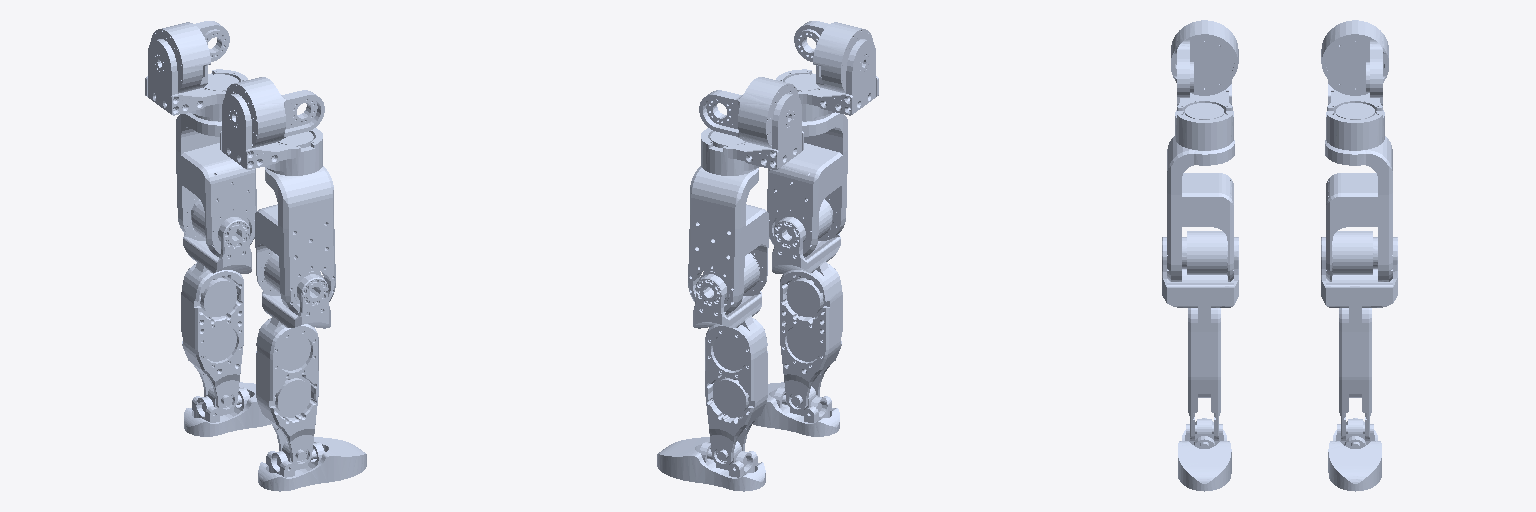
URDF robot description (Wato_Humanoid_V1):
<?xml version="1.0" encoding="utf-8"?>
<!-- This URDF was automatically created by SolidWorks to URDF Exporter! Originally created by Stephen Brawner (brawner@gmail.com) 
     Commit Version: 1.6.0-4-g7f85cfe  Build Version: 1.6.7995.38578
     For more information, please see http://wiki.ros.org/sw_urdf_exporter -->
<robot
  name="Wato_Humanoid_V1">
  <!-- Isaac Lab: Z-up root. CAD base_link is Y-long; fixed joint stands the robot.
       Extra -90 deg yaw on top of the up-axis fix: the X-only rotation above left
       CAD's true forward (Z) mapped onto Isaac's Y axis, and CAD's lateral (X, the
       Hip_F_L/Hip_F_R separation axis) mapped onto Isaac's X, i.e. "forward" was on
       Y and "sideways" was on X, opposite of Isaac Lab's local-+X-forward convention.
       This produced a persistent crab-like gait: lin_vel_x commands were being
       satisfied by strafing along the robot's true lateral axis. This yaw term
       rotates the horizontal plane only (up/down mapping is unchanged) so CAD-forward
       lands on +X and CAD-lateral lands on Y (left = +Y). -->
  <link name="base">
    <inertial>
      <origin xyz="0 0 0" rpy="0 0 0" />
      <mass value="0.001" />
      <inertia ixx="1e-6" ixy="0" ixz="0" iyy="1e-6" iyz="0" izz="1e-6" />
    </inertial>
  </link>
  <joint name="base_to_base_link" type="fixed">
    <origin xyz="0 0 0" rpy="-1.5707963267948966 0 -1.5707963267948966" />
    <parent link="base" />
    <child link="base_link" />
  </joint>
  <link
    name="base_link">
    <inertial>
      <origin
        xyz="-0.0178256130027216 -0.312045347129039 -0.0234215650852464"
        rpy="0 0 0" />
      <mass
        value="28.3605218282777" />
      <inertia
        ixx="0.69401923698989"
        ixy="-9.82144199065855E-05"
        ixz="-3.12577275416637E-07"
        iyy="0.302249953263776"
        iyz="-0.00405559425216514"
        izz="0.907237093065294" />
    </inertial>
    <visual>
      <origin
        xyz="0 0 0"
        rpy="0 0 0" />
      <geometry>
        <mesh
          filename="meshes/base_link.STL" />
      </geometry>
      <material
        name="">
        <color
          rgba="0.866666666666667 0.909803921568627 1 1" />
      </material>
    </visual>
    <collision>
      <origin
        xyz="0 0 0"
        rpy="0 0 0" />
      <geometry>
        <mesh
          filename="meshes/base_link.STL" />
      </geometry>
    </collision>
  </link>
  <link
    name="Hip_F_L">
    <inertial>
      <origin
        xyz="-0.0765965252608057 -0.0742870984999665 0.000260489105071417"
        rpy="0 0 0" />
      <mass
        value="1.85927937041764" />
      <inertia
        ixx="0.00466928532754938"
        ixy="0.000680272307916565"
        ixz="-3.20305099316354E-05"
        iyy="0.0048433423507958"
        iyz="1.88355338559742E-06"
        izz="0.00462810834146459" />
    </inertial>
    <visual>
      <origin
        xyz="0 0 0"
        rpy="0 0 0" />
      <geometry>
        <mesh
          filename="meshes/Hip_F_L.STL" />
      </geometry>
      <material
        name="">
        <color
          rgba="0.866666666666667 0.909803921568627 1 1" />
      </material>
    </visual>
    <collision>
      <origin
        xyz="0 0 0"
        rpy="0 0 0" />
      <geometry>
        <mesh
          filename="meshes/Hip_F_L.STL" />
      </geometry>
    </collision>
  </link>
  <joint
    name="Hip_F_L"
    type="revolute">
    <origin
      xyz="-0.101313616221018 -0.00597208811090948 -0.00261740055167056"
      rpy="1.5707963267949 0 0" />
    <parent
      link="base_link" />
    <child
      link="Hip_F_L" />
    <axis
      xyz="1 0 0" />
    <limit
      lower="-0.3491"
      upper="1.5708"
      effort="222"
      velocity="3.6652" />
  </joint>
  <link
    name="Hip_A_L">
    <inertial>
      <origin
        xyz="-3.85907761302207E-09 -0.0581841592513654 -0.081037989718635"
        rpy="0 0 0" />
      <mass
        value="2.17786049871613" />
      <inertia
        ixx="0.010356099240432"
        ixy="5.51142159865326E-10"
        ixz="-1.15261408091874E-10"
        iyy="0.00534355844537912"
        iyz="0.00295380494251491"
        izz="0.00927736349194753" />
    </inertial>
    <visual>
      <origin
        xyz="0 0 0"
        rpy="0 0 0" />
      <geometry>
        <mesh
          filename="meshes/Hip_A_L.STL" />
      </geometry>
      <material
        name="">
        <color
          rgba="0.866666666666667 0.909803921568627 1 1" />
      </material>
    </visual>
    <collision>
      <origin
        xyz="0 0 0"
        rpy="0 0 0" />
      <geometry>
        <mesh
          filename="meshes/Hip_A_L.STL" />
      </geometry>
    </collision>
  </link>
  <joint
    name="Hip_A_L"
    type="revolute">
    <origin
      xyz="-0.069 0 0"
      rpy="0 0 0" />
    <parent
      link="Hip_F_L" />
    <child
      link="Hip_A_L" />
    <axis
      xyz="0 -1 0" />
    <limit
      lower="-0.1745"
      upper="1.0472"
      effort="120"
      velocity="20.944" />
  </joint>
  <link
    name="Thigh_L">
    <inertial>
      <origin
        xyz="-0.0140461341993555 -0.00261881131754188 -0.141650563901102"
        rpy="0 0 0" />
      <mass
        value="6.3925834479658" />
      <inertia
        ixx="0.0377767427668699"
        ixy="-0.000125319204693723"
        ixz="0.000606433362371239"
        iyy="0.0412576137629967"
        iyz="8.37171849815304E-05"
        izz="0.0179331997635995" />
    </inertial>
    <visual>
      <origin
        xyz="0 0 0"
        rpy="0 0 0" />
      <geometry>
        <mesh
          filename="meshes/Thigh_L.STL" />
      </geometry>
      <material
        name="">
        <color
          rgba="0.866666666666667 0.909803921568627 1 1" />
      </material>
    </visual>
    <collision>
      <origin
        xyz="0 0 0"
        rpy="0 0 0" />
      <geometry>
        <mesh
          filename="meshes/Thigh_L.STL" />
      </geometry>
    </collision>
  </link>
  <joint
    name="Hip_R_L"
    type="revolute">
    <origin
      xyz="0 0 -0.130499999999998"
      rpy="0 0 0" />
    <parent
      link="Hip_A_L" />
    <child
      link="Thigh_L" />
    <axis
      xyz="0 0 1" />
    <limit
      lower="-0.5236"
      upper="1.5708"
      effort="60"
      velocity="20.42" />
  </joint>
  <link
    name="Calf_L">
    <inertial>
      <origin
        xyz="-0.00422263266641851 -0.00845674308430088 -0.161909849422175"
        rpy="0 0 0" />
      <mass
        value="4.57276009601776" />
      <inertia
        ixx="0.0507142410332034"
        ixy="0.000167037114742281"
        ixz="0.00269071976805593"
        iyy="0.0509548750553291"
        iyz="-0.00194248642921232"
        izz="0.00972460386909208" />
    </inertial>
    <visual>
      <origin
        xyz="0 0 0"
        rpy="0 0 0" />
      <geometry>
        <mesh
          filename="meshes/Calf_L.STL" />
      </geometry>
      <material
        name="">
        <color
          rgba="0.866666666666667 0.909803921568627 1 1" />
      </material>
    </visual>
    <collision>
      <origin
        xyz="0 0 0"
        rpy="0 0 0" />
      <geometry>
        <mesh
          filename="meshes/Calf_L.STL" />
      </geometry>
    </collision>
  </link>
  <joint
    name="Knee_L"
    type="revolute">
    <origin
      xyz="0 0 -0.261500000000557"
      rpy="0.00655041529097143 0 0" />
    <parent
      link="Thigh_L" />
    <child
      link="Calf_L" />
    <axis
      xyz="-1 0 0" />
    <limit
      lower="-1.0472"
      upper="0.0873"
      effort="222"
      velocity="3.6652" />
  </joint>
  <link
    name="Ankle_L">
    <inertial>
      <origin
        xyz="-0.000300000000031247 0.00202712541456969 -0.00967253391125056"
        rpy="0 0 0" />
      <mass
        value="0.263617094766663" />
      <inertia
        ixx="0.000135227765188618"
        ixy="3.29713388840002E-19"
        ixz="-1.10561449646542E-18"
        iyy="8.62171882849032E-05"
        iyz="4.41444728891872E-06"
        izz="0.000108479948629321" />
    </inertial>
    <visual>
      <origin
        xyz="0 0 0"
        rpy="0 0 0" />
      <geometry>
        <mesh
          filename="meshes/Ankle_L.STL" />
      </geometry>
      <material
        name="">
        <color
          rgba="0.866666666666667 0.909803921568627 1 1" />
      </material>
    </visual>
    <collision>
      <origin
        xyz="0 0 0"
        rpy="0 0 0" />
      <geometry>
        <mesh
          filename="meshes/Ankle_L.STL" />
      </geometry>
    </collision>
  </link>
  <joint
    name="Ankle_P_L"
    type="revolute">
    <origin
      xyz="0 0 -0.393599999999988"
      rpy="-0.00655041529097143 0 0" />
    <parent
      link="Calf_L" />
    <child
      link="Ankle_L" />
    <axis
      xyz="-1 0 0" />
    <limit
      lower="-0.5236"
      upper="0.8727"
      effort="120"
      velocity="20.42" />
  </joint>
  <link
    name="Foot_L">
    <inertial>
      <origin
        xyz="-9.1537702898159E-07 0.0576363382230524 -0.0232669155388406"
        rpy="0 0 0" />
      <mass
        value="1.88969474620874" />
      <inertia
        ixx="0.00770783639371384"
        ixy="-8.52856224218189E-08"
        ixz="4.10733361351515E-08"
        iyy="0.00204838176587607"
        iyz="-0.000195649387406003"
        izz="0.00890782288027548" />
    </inertial>
    <visual>
      <origin
        xyz="0 0 0"
        rpy="0 0 0" />
      <geometry>
        <mesh
          filename="meshes/Foot_L.STL" />
      </geometry>
      <material
        name="">
        <color
          rgba="0.866666666666667 0.909803921568627 1 1" />
      </material>
    </visual>
    <collision>
      <origin
        xyz="0 0 0"
        rpy="0 0 0" />
      <geometry>
        <mesh
          filename="meshes/Foot_L.STL" />
      </geometry>
    </collision>
  </link>
  <joint
    name="Ankle_R_L"
    type="revolute">
    <origin
      xyz="-0.00030000000003183 0 -0.0179333346595372"
      rpy="0 0 0" />
    <parent
      link="Ankle_L" />
    <child
      link="Foot_L" />
    <axis
      xyz="0 -1 0" />
    <limit
      lower="-0.5236"
      upper="0.5236"
      effort="120"
      velocity="20.42" />
  </joint>
  <link
    name="Hip_F_R">
    <inertial>
      <origin
        xyz="0.0765965502181098 -0.0742870765499794 0.00026051884040908"
        rpy="0 0 0" />
      <mass
        value="1.85928075179988" />
      <inertia
        ixx="0.00466928726772697"
        ixy="-0.000680273181631613"
        ixz="3.20281948463189E-05"
        iyy="0.00484334527161812"
        iyz="1.88499415644764E-06"
        izz="0.00462811026523055" />
    </inertial>
    <visual>
      <origin
        xyz="0 0 0"
        rpy="0 0 0" />
      <geometry>
        <mesh
          filename="meshes/Hip_F_R.STL" />
      </geometry>
      <material
        name="">
        <color
          rgba="0.866666666666667 0.909803921568627 1 1" />
      </material>
    </visual>
    <collision>
      <origin
        xyz="0 0 0"
        rpy="0 0 0" />
      <geometry>
        <mesh
          filename="meshes/Hip_F_R.STL" />
      </geometry>
    </collision>
  </link>
  <joint
    name="Hip_F_R"
    type="revolute">
    <origin
      xyz="0.06568638377897 -0.00597208811090948 -0.00261740055167058"
      rpy="1.5707963267949 0 0" />
    <parent
      link="base_link" />
    <child
      link="Hip_F_R" />
    <axis
      xyz="1 0 0" />
    <limit
      lower="-0.3491"
      upper="1.5708"
      effort="222"
      velocity="3.6652" />
  </joint>
  <link
    name="Hip_A_R">
    <inertial>
      <origin
        xyz="-3.83893161703952E-09 -0.058184157660292 -0.081037989798686"
        rpy="0 0 0" />
      <mass
        value="2.17786045043723" />
      <inertia
        ixx="0.0103560993252746"
        ixy="5.4259602096013E-10"
        ixz="-1.1309107518557E-10"
        iyy="0.00534355840536511"
        iyz="0.0029538049638703"
        izz="0.00927736355076564" />
    </inertial>
    <visual>
      <origin
        xyz="0 0 0"
        rpy="0 0 0" />
      <geometry>
        <mesh
          filename="meshes/Hip_A_R.STL" />
      </geometry>
      <material
        name="">
        <color
          rgba="0.866666666666667 0.909803921568627 1 1" />
      </material>
    </visual>
    <collision>
      <origin
        xyz="0 0 0"
        rpy="0 0 0" />
      <geometry>
        <mesh
          filename="meshes/Hip_A_R.STL" />
      </geometry>
    </collision>
  </link>
  <joint
    name="Hip_A_R"
    type="revolute">
    <origin
      xyz="0.069000000000001 0 0"
      rpy="0 0 0" />
    <parent
      link="Hip_F_R" />
    <child
      link="Hip_A_R" />
    <axis
      xyz="0 -1 0" />
    <limit
      lower="-0.1745"
      upper="1.0472"
      effort="120"
      velocity="20.944" />
  </joint>
  <link
    name="Thigh_R">
    <inertial>
      <origin
        xyz="0.0140461758796909 -0.00261879925221624 -0.141650509908182"
        rpy="0 0 0" />
      <mass
        value="6.39258174798958" />
      <inertia
        ixx="0.0377767089802132"
        ixy="0.000125322393772352"
        ixz="-0.000606453721600612"
        iyy="0.0412575794633918"
        iyz="8.37142115209935E-05"
        izz="0.0179331982884892" />
    </inertial>
    <visual>
      <origin
        xyz="0 0 0"
        rpy="0 0 0" />
      <geometry>
        <mesh
          filename="meshes/Thigh_R.STL" />
      </geometry>
      <material
        name="">
        <color
          rgba="0.866666666666667 0.909803921568627 1 1" />
      </material>
    </visual>
    <collision>
      <origin
        xyz="0 0 0"
        rpy="0 0 0" />
      <geometry>
        <mesh
          filename="meshes/Thigh_R.STL" />
      </geometry>
    </collision>
  </link>
  <joint
    name="Hip_R_R"
    type="revolute">
    <origin
      xyz="0 0 -0.130499999999985"
      rpy="0 0 0" />
    <parent
      link="Hip_A_R" />
    <child
      link="Thigh_R" />
    <axis
      xyz="0 0 -1" />
    <limit
      lower="-0.5236"
      upper="1.5708"
      effort="60"
      velocity="20.42" />
  </joint>
  <link
    name="Calf_R">
    <inertial>
      <origin
        xyz="0.00422281549892706 -0.00845659877907993 -0.161909818734479"
        rpy="0 0 0" />
      <mass
        value="4.57276562417178" />
      <inertia
        ixx="0.0507142565854391"
        ixy="-0.000167040591606664"
        ixz="-0.00269075052939453"
        iyy="0.0509548797557359"
        iyz="-0.00194250943812969"
        izz="0.00972462326955457" />
    </inertial>
    <visual>
      <origin
        xyz="0 0 0"
        rpy="0 0 0" />
      <geometry>
        <mesh
          filename="meshes/Calf_R.STL" />
      </geometry>
      <material
        name="">
        <color
          rgba="0.866666666666667 0.909803921568627 1 1" />
      </material>
    </visual>
    <collision>
      <origin
        xyz="0 0 0"
        rpy="0 0 0" />
      <geometry>
        <mesh
          filename="meshes/Calf_R.STL" />
      </geometry>
    </collision>
  </link>
  <joint
    name="Knee_R"
    type="revolute">
    <origin
      xyz="0 0 -0.261500000000547"
      rpy="0.00655041529097143 0 0" />
    <parent
      link="Thigh_R" />
    <child
      link="Calf_R" />
    <axis
      xyz="-1 0 0" />
    <limit
      lower="-1.0472"
      upper="0.0873"
      effort="222"
      velocity="3.6652" />
  </joint>
  <link
    name="Ankle_R">
    <inertial>
      <origin
        xyz="0.000300000000032413 0.00202712541479553 -0.00967253390667422"
        rpy="0 0 0" />
      <mass
        value="0.26361709455037" />
      <inertia
        ixx="0.000135227765103666"
        ixy="-1.60681221536005E-20"
        ixz="3.43203452596199E-20"
        iyy="8.62171882299548E-05"
        iyz="4.4144472898776E-06"
        izz="0.000108479948532872" />
    </inertial>
    <visual>
      <origin
        xyz="0 0 0"
        rpy="0 0 0" />
      <geometry>
        <mesh
          filename="meshes/Ankle_R.STL" />
      </geometry>
      <material
        name="">
        <color
          rgba="0.866666666666667 0.909803921568627 1 1" />
      </material>
    </visual>
    <collision>
      <origin
        xyz="0 0 0"
        rpy="0 0 0" />
      <geometry>
        <mesh
          filename="meshes/Ankle_R.STL" />
      </geometry>
    </collision>
  </link>
  <joint
    name="Ankle_P_R"
    type="revolute">
    <origin
      xyz="0 0 -0.393599999999998"
      rpy="-0.00655041529097143 0 0" />
    <parent
      link="Calf_R" />
    <child
      link="Ankle_R" />
    <axis
      xyz="1 0 0" />
    <limit
      lower="-0.5236"
      upper="0.8727"
      effort="120"
      velocity="20.42" />
  </joint>
  <link
    name="Foot_R">
    <inertial>
      <origin
        xyz="-1.17640058550084E-06 0.0576296116869578 -0.0232668040239051"
        rpy="0 0 0" />
      <mass
        value="1.88960670537209" />
      <inertia
        ixx="0.00770744513710908"
        ixy="1.10429456791108E-07"
        ixz="-2.71312526885416E-08"
        iyy="0.00204843890809921"
        iyz="-0.000195606840062407"
        izz="0.00890734192555341" />
    </inertial>
    <visual>
      <origin
        xyz="0 0 0"
        rpy="0 0 0" />
      <geometry>
        <mesh
          filename="meshes/Foot_R.STL" />
      </geometry>
      <material
        name="">
        <color
          rgba="0.866666666666667 0.909803921568627 1 1" />
      </material>
    </visual>
    <collision>
      <origin
        xyz="0 0 0"
        rpy="0 0 0" />
      <geometry>
        <mesh
          filename="meshes/Foot_R.STL" />
      </geometry>
    </collision>
  </link>
  <joint
    name="Ankle_R_R"
    type="revolute">
    <origin
      xyz="0.000300000000032413 0 -0.0179333346595372"
      rpy="0 0 0" />
    <parent
      link="Ankle_R" />
    <child
      link="Foot_R" />
    <axis
      xyz="0 1 0" />
    <limit
      lower="-0.5236"
      upper="0.5236"
      effort="120"
      velocity="20.42" />
  </joint>
</robot>

--- Render facts (derived) ---
3 views of the same robot in one strip: view 1: azimuth 30°, elevation 25°; view 2: azimuth 150°, elevation 25°; view 3: azimuth 270°, elevation 25° (orthographic).
Robot: Wato_Humanoid_V1 — 14 links, 13 joints (12 revolute, 1 fixed); root link base; default pose: all joints at 0.
Links seen in each view (by area): view 1: Calf_L, Calf_R, Thigh_R, Thigh_L, Hip_A_R, Hip_F_R, Hip_A_L, Foot_R, Hip_F_L, Foot_L; view 2: Calf_R, Calf_L, Thigh_L, Thigh_R, Hip_A_L, Hip_F_L, Hip_A_R, Foot_L, Hip_F_R, Foot_R; view 3: Thigh_L, Thigh_R, Calf_L, Calf_R, Hip_F_L, Hip_F_R, Hip_A_R, Hip_A_L, Foot_R, Foot_L.
Boxes of the visible links, left/top/right/bottom form: Calf_L: left=181, top=199, right=251, bottom=411; Calf_R: left=256, top=271, right=330, bottom=466; Thigh_R: left=255, top=166, right=335, bottom=314; Thigh_L: left=176, top=112, right=256, bottom=257; Hip_A_R: left=220, top=93, right=322, bottom=175; Hip_F_R: left=225, top=77, right=324, bottom=147; Hip_A_L: left=145, top=39, right=247, bottom=121; Foot_R: left=258, top=437, right=366, bottom=491; Hip_F_L: left=150, top=21, right=229, bottom=93; Foot_L: left=184, top=382, right=270, bottom=436; Calf_R: left=772, top=199, right=842, bottom=411; Calf_L: left=693, top=271, right=767, bottom=466; Thigh_L: left=688, top=166, right=768, bottom=314; Thigh_R: left=767, top=112, right=847, bottom=257; Hip_A_L: left=701, top=93, right=803, bottom=175; Hip_F_L: left=699, top=77, right=798, bottom=147; Hip_A_R: left=776, top=39, right=878, bottom=121; Foot_L: left=657, top=437, right=765, bottom=491; Hip_F_R: left=794, top=21, right=873, bottom=93; Foot_R: left=753, top=382, right=839, bottom=436; Thigh_L: left=1325, top=136, right=1392, bottom=281; Thigh_R: left=1167, top=136, right=1234, bottom=281; Calf_L: left=1321, top=237, right=1397, bottom=440; Calf_R: left=1162, top=237, right=1238, bottom=440; Hip_F_L: left=1321, top=20, right=1388, bottom=97; Hip_F_R: left=1171, top=20, right=1238, bottom=97; Hip_A_R: left=1175, top=84, right=1233, bottom=150; Hip_A_L: left=1326, top=84, right=1384, bottom=150; Foot_R: left=1178, top=418, right=1231, bottom=491; Foot_L: left=1328, top=418, right=1381, bottom=491.
Size in the robot's own frame: 0.3098 by 0.4786 by 0.9167 metres.
12 mesh visuals loaded from 13 distinct referenced files (12 binary STL); not drawn: 1 (reference not matched to a file when rendering).
